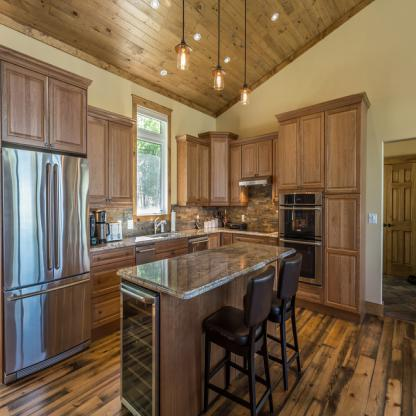door: (386, 164, 415, 276)
hinged: (388, 224, 394, 228)
